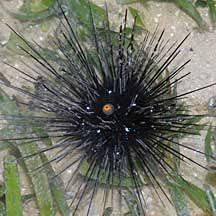urchin: (4, 6, 216, 213)
